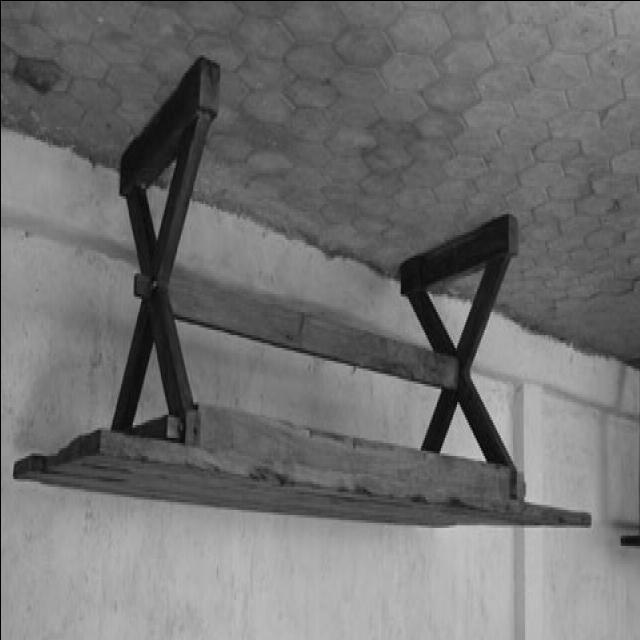table: (12, 53, 600, 527)
